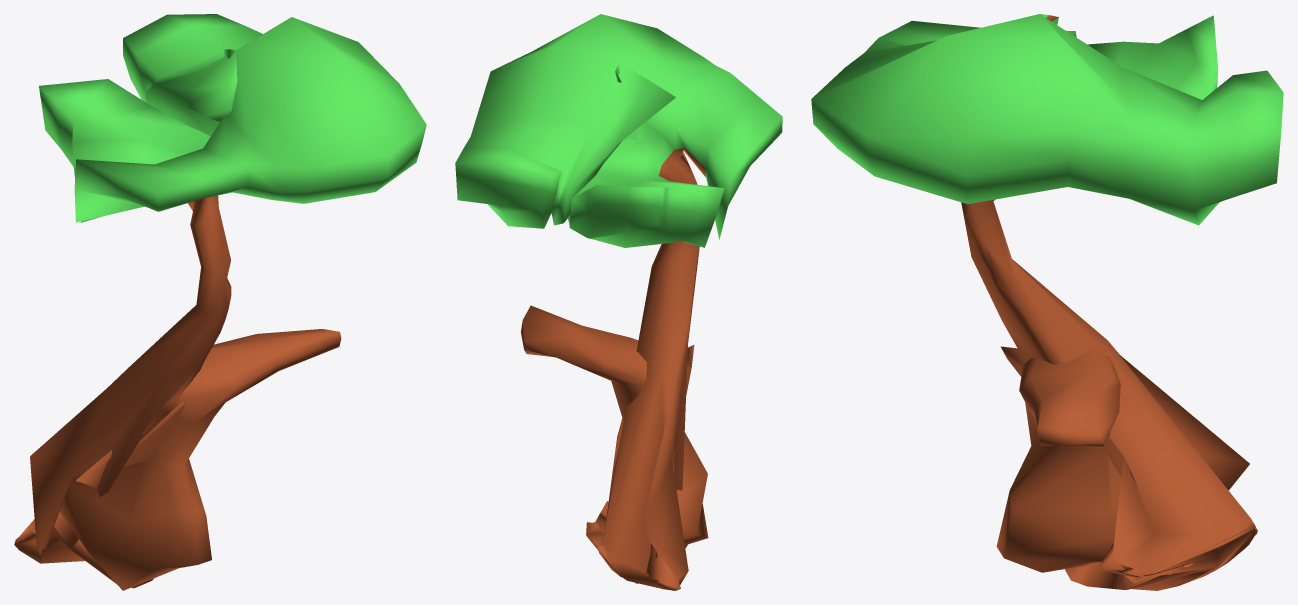
File: Tree 3.fbx
3 views of the same model, side by side, from view 1: azimuth 30°, elevation 25°; view 2: azimuth 150°, elevation 25°; view 3: azimuth 270°, elevation 25° (orthographic). The views are drawn at different scales.
Parts seen in each view (by area): view 1: Tree; view 2: Tree; view 3: Tree.
Part boxes in pixels (x1,y1,x2,y2): Tree: (14,14,426,590); Tree: (455,14,782,590); Tree: (811,14,1283,590).
Bounding box in the file's own units: 1549 × 2785 × 1901.
